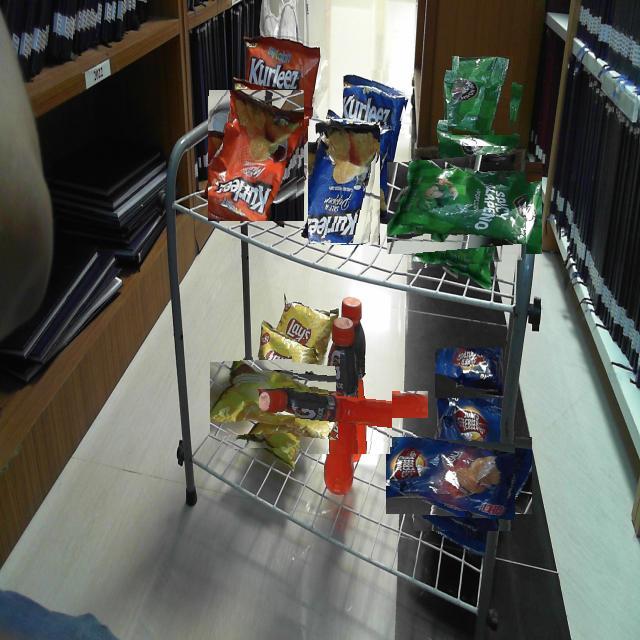Plastic: (402, 146, 526, 270), (208, 89, 304, 221), (403, 419, 515, 531), (222, 350, 322, 450), (292, 354, 392, 454), (308, 120, 380, 246), (242, 31, 321, 94), (447, 61, 518, 131), (435, 348, 503, 398), (344, 70, 406, 124), (276, 292, 330, 339)
